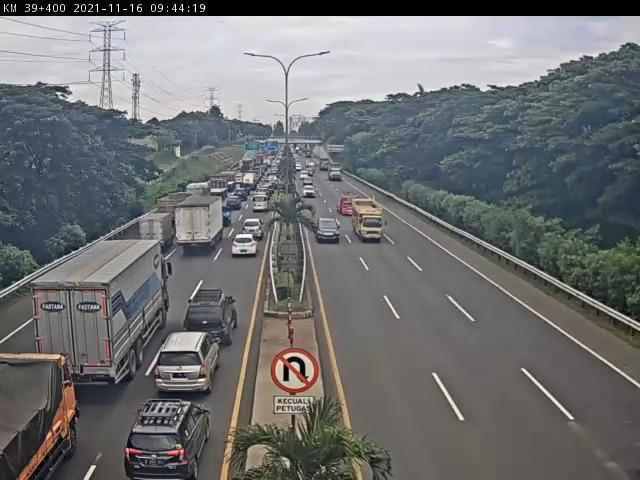car: (127, 394, 209, 473), (159, 328, 221, 384), (190, 286, 238, 340), (230, 236, 257, 262), (319, 218, 341, 241), (244, 219, 264, 240), (229, 196, 242, 210), (255, 196, 268, 210), (305, 187, 315, 196), (303, 169, 312, 178), (296, 164, 304, 171)
truck: (31, 240, 175, 386), (1, 353, 73, 480), (178, 194, 221, 254), (139, 210, 171, 245), (356, 208, 383, 240), (341, 196, 354, 215), (331, 167, 344, 184), (309, 162, 319, 174), (322, 161, 330, 173)
